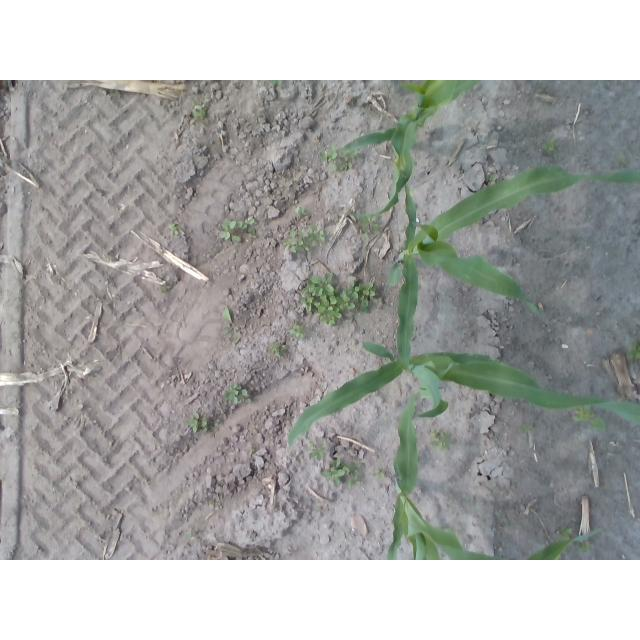Maize: (384, 166, 640, 362), (287, 342, 640, 447), (386, 394, 600, 560), (338, 81, 483, 218)
Weeds: (302, 272, 343, 326), (340, 281, 376, 311), (320, 458, 348, 486), (218, 218, 247, 243), (428, 429, 457, 450), (284, 232, 309, 253), (223, 384, 249, 404), (307, 436, 328, 460), (185, 413, 207, 432), (221, 308, 236, 335), (308, 226, 325, 247), (345, 460, 364, 476), (573, 407, 592, 421), (192, 100, 205, 119), (627, 341, 640, 359), (321, 145, 336, 160), (591, 417, 606, 431), (340, 157, 353, 171), (579, 541, 593, 554), (290, 324, 303, 337), (365, 218, 379, 230), (269, 343, 280, 357), (348, 477, 361, 488), (542, 143, 555, 154), (271, 81, 282, 92), (521, 423, 533, 433), (374, 470, 386, 479), (170, 224, 179, 235), (619, 153, 627, 164), (296, 206, 304, 214), (160, 285, 168, 292), (246, 219, 255, 225)
